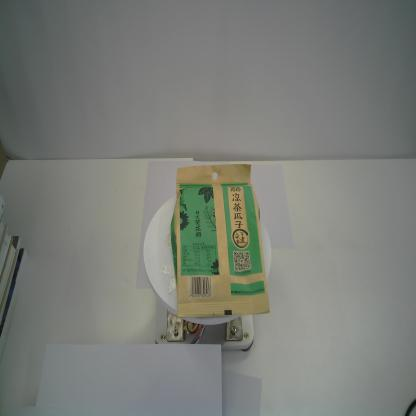Dried Food: (168, 162, 272, 320)
